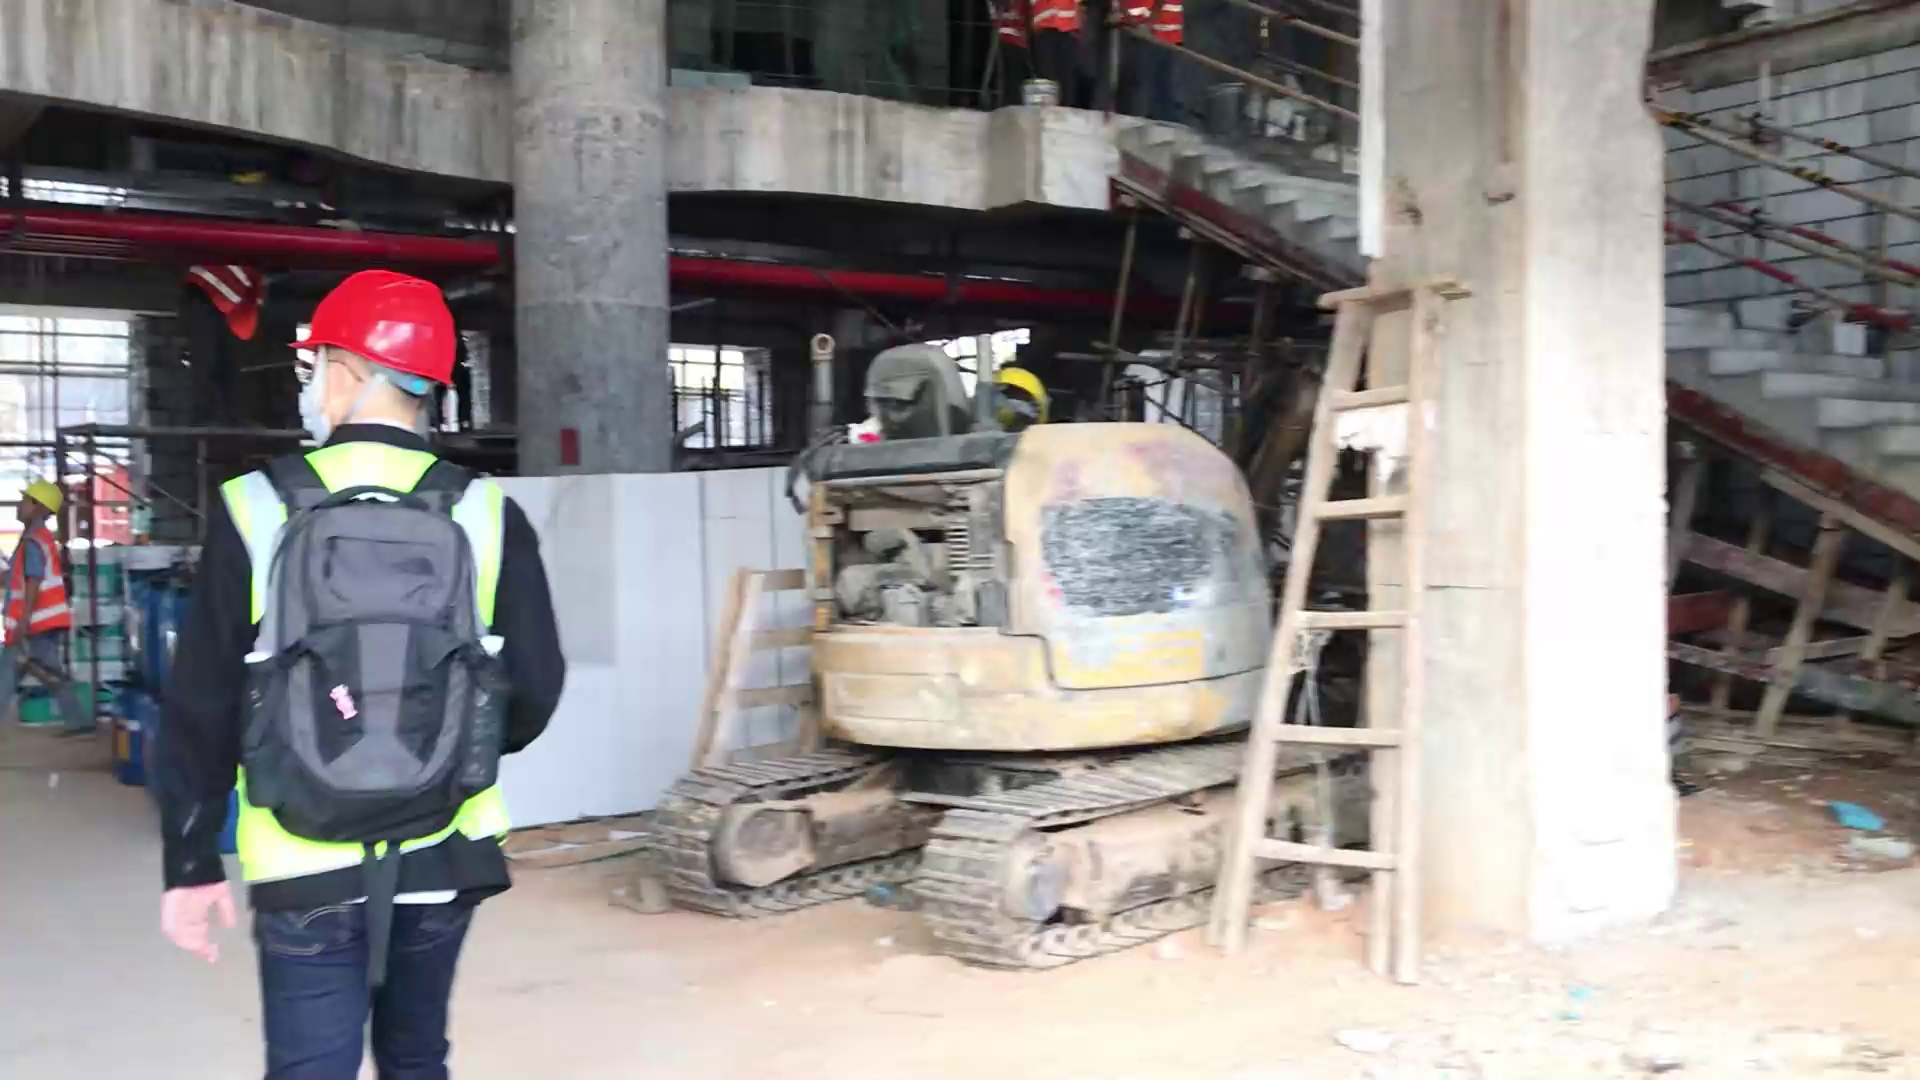helmet: (282, 248, 488, 391), (18, 469, 67, 520)
person: (148, 253, 588, 1080), (1, 458, 101, 742)
vest: (204, 454, 523, 882)
